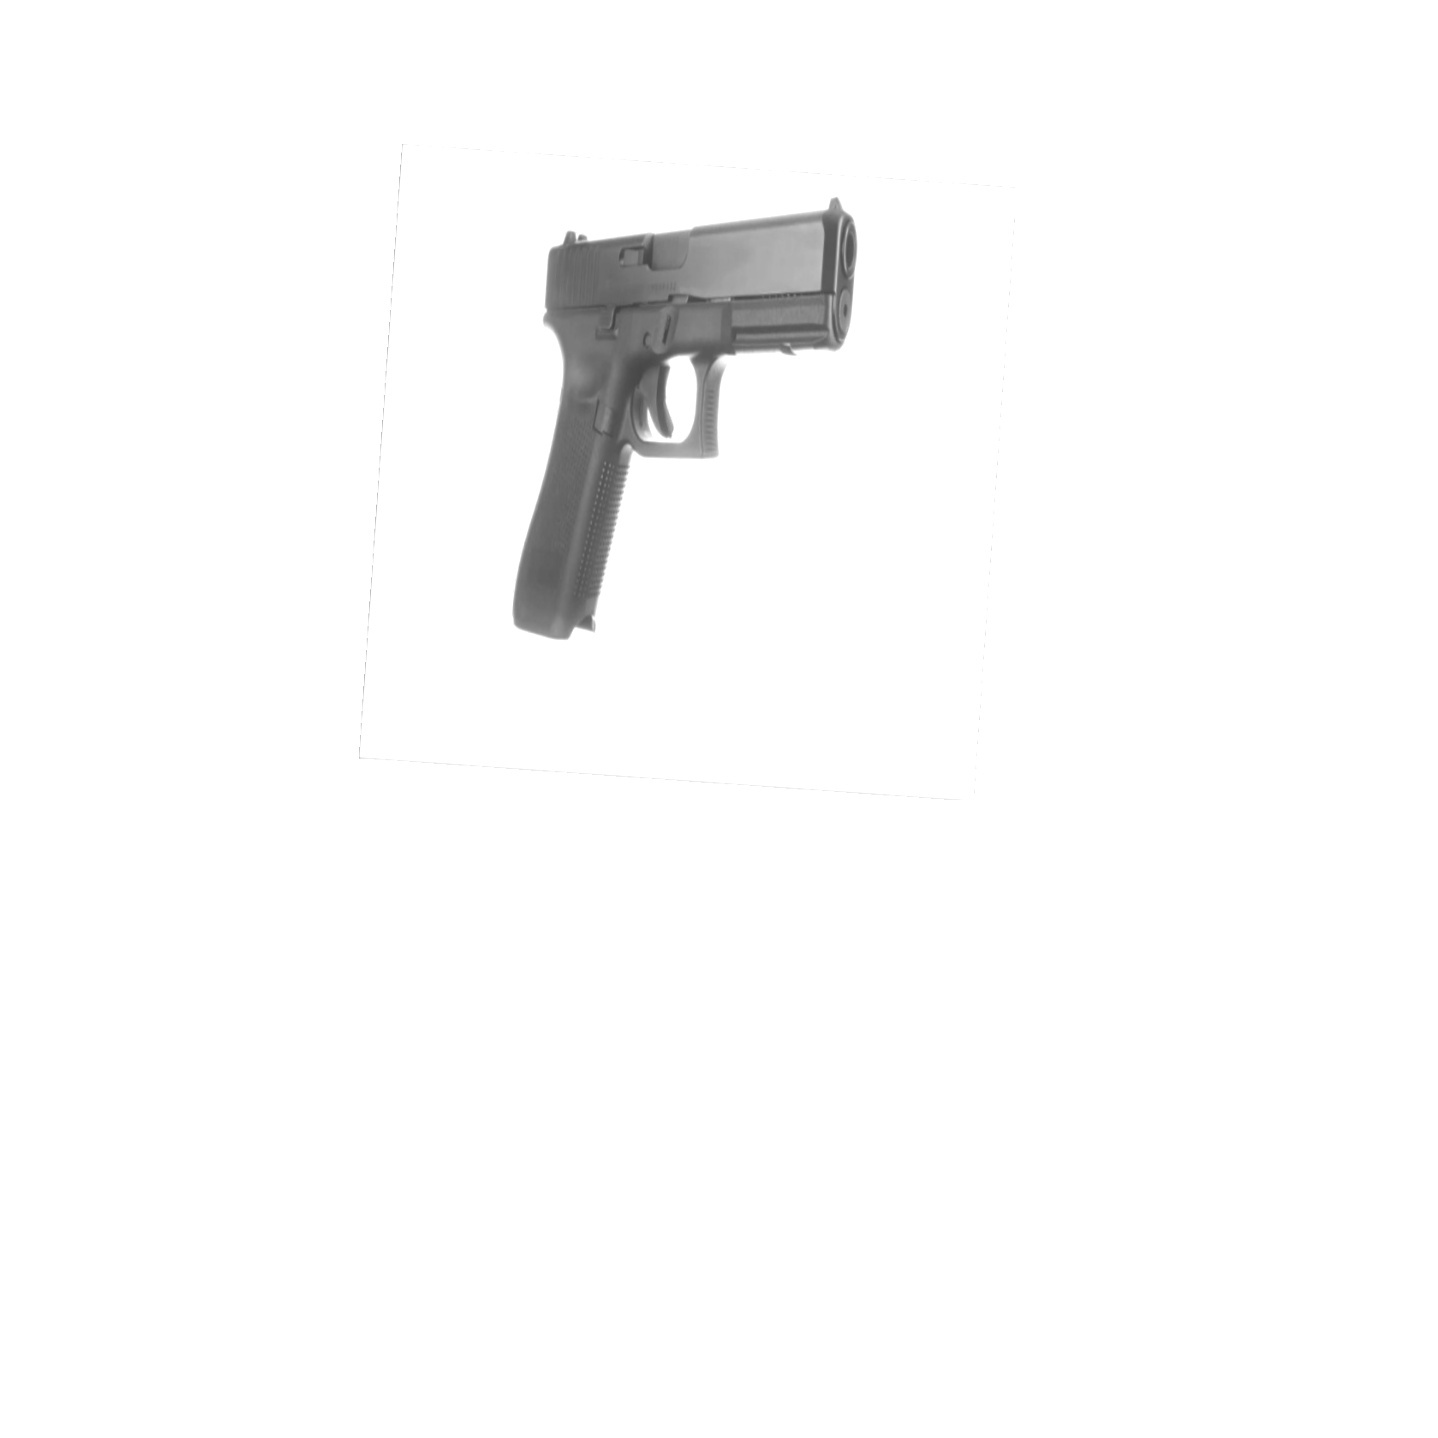gun: (512, 198, 859, 639)
